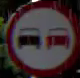No overtake: (4, 2, 79, 75)
